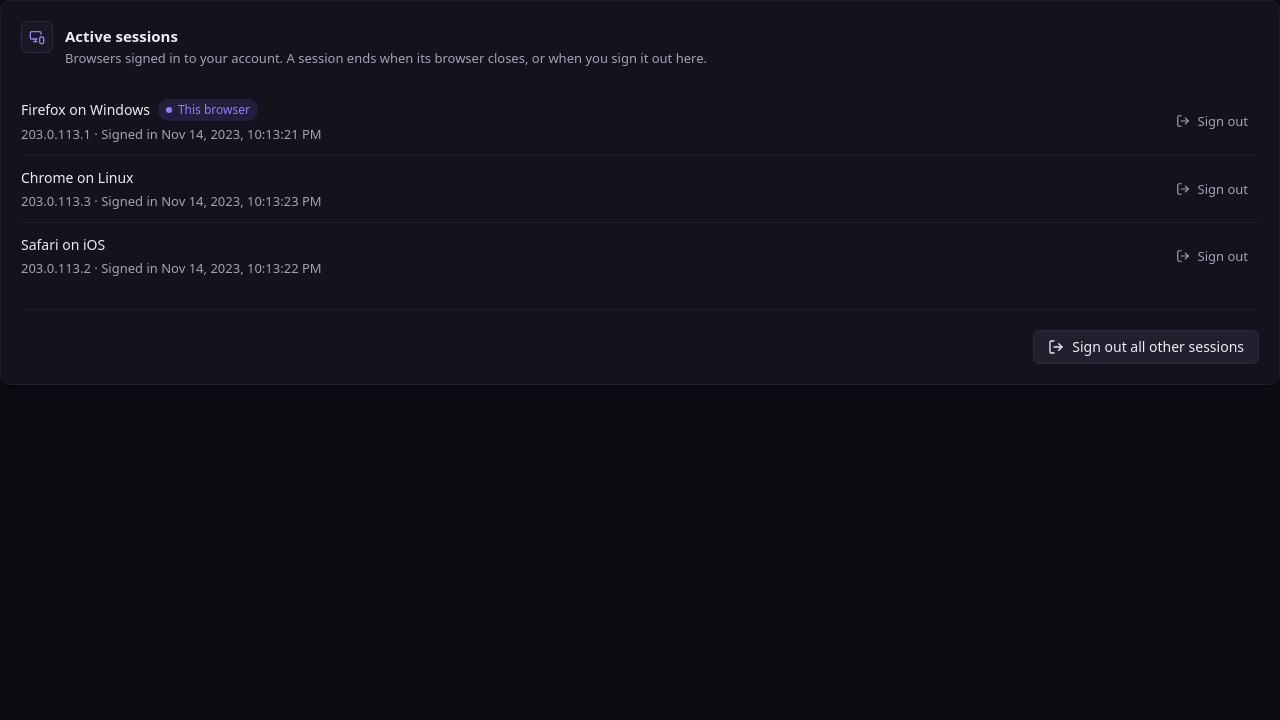
Active sessions › signs out all other sessions, keeping this browser
What coordinates should you click on to do the following:
click the button "Sign out all other sessions"
I would click on:
 (1146, 347)
Its box is [1033,330,1259,364].
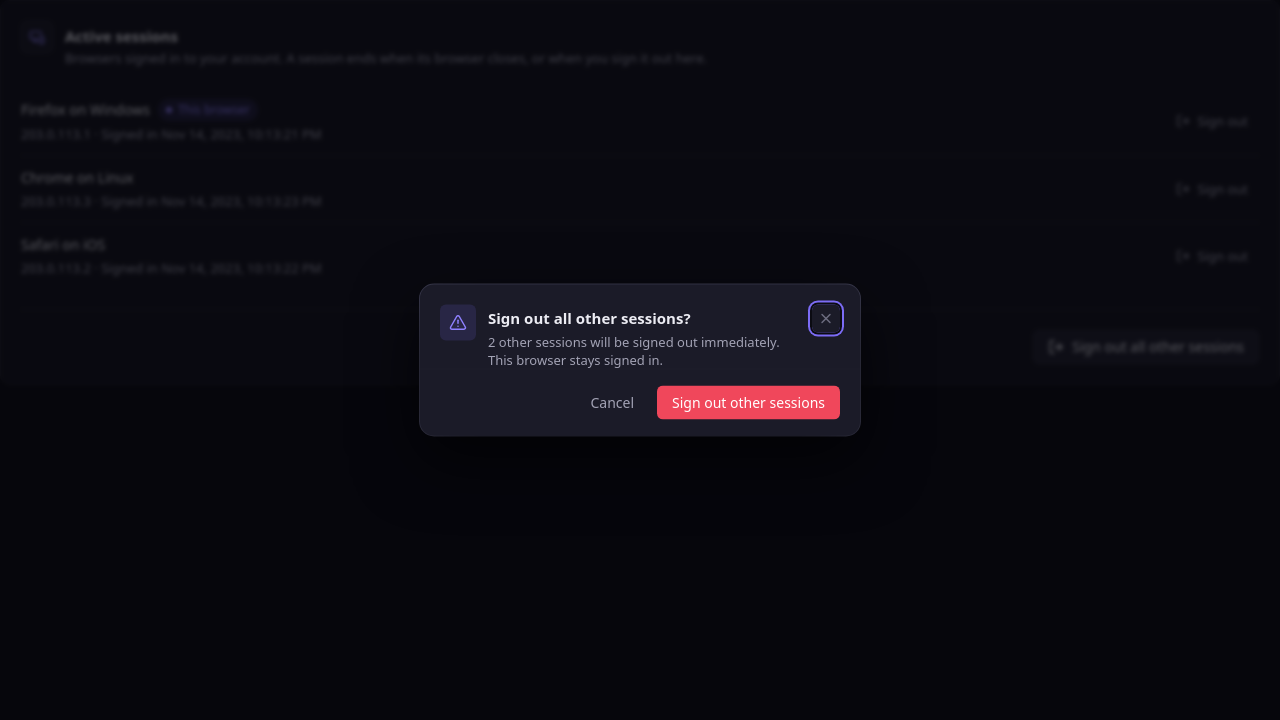
What coordinates should you click on to do the following:
click the button "Sign out other sessions"
I would click on:
 (748, 402)
Its box is [657,386,840,420].
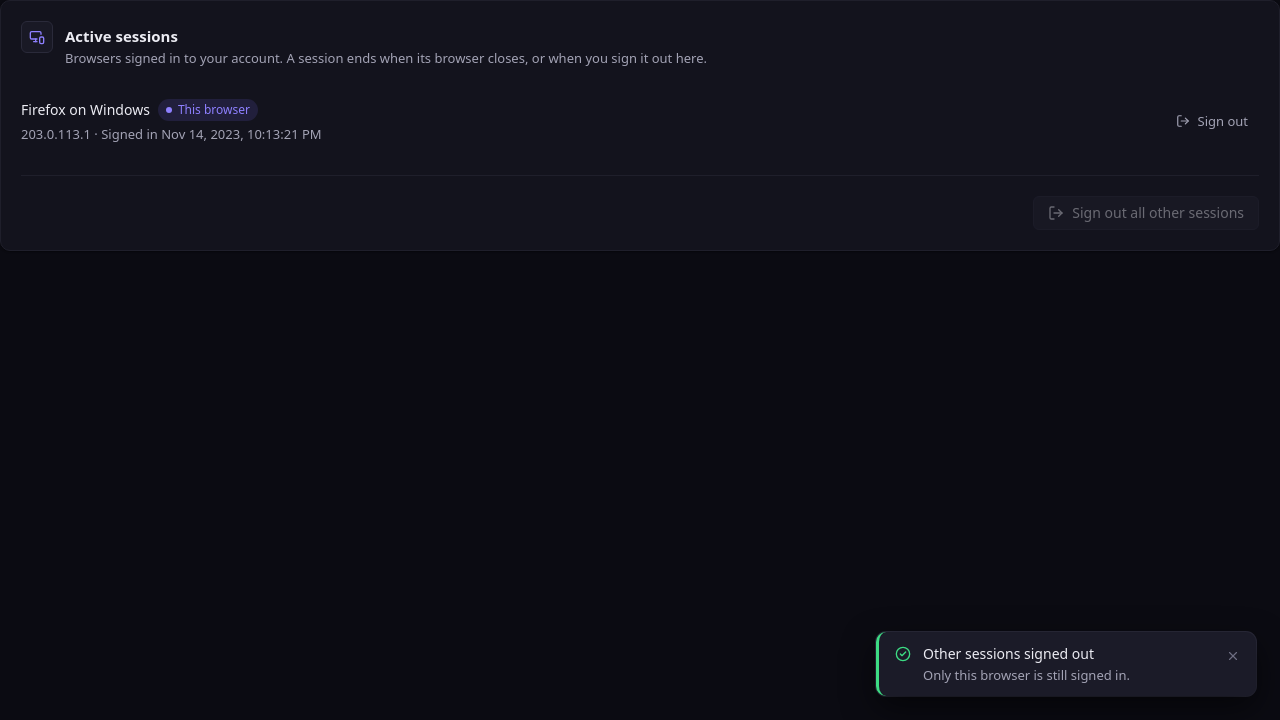
Now the number of list items is 1, box [21,87,1259,155]
Now the button "Sign out all other sessions" is disabled, box [1033,196,1259,230]
